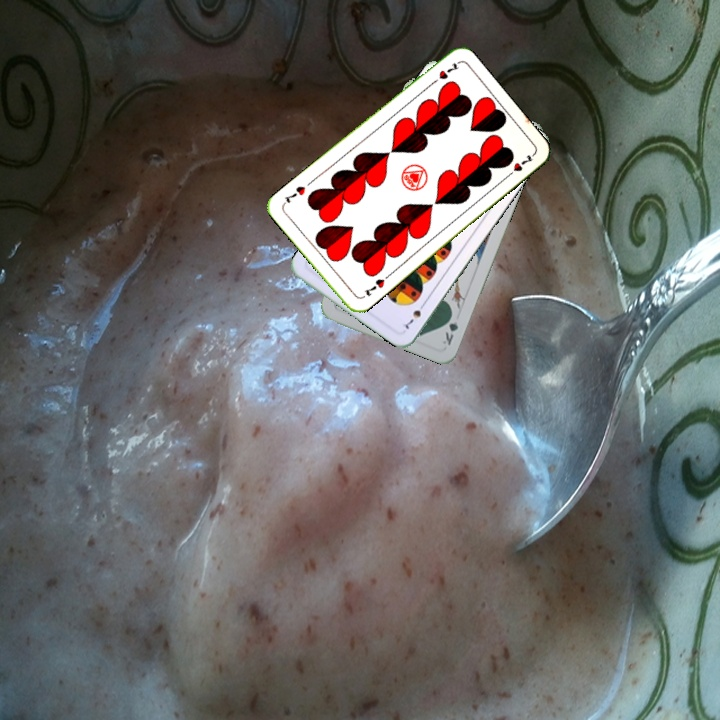GK: (438, 308, 461, 348)
H7: (426, 58, 461, 88), (360, 275, 387, 299)
S7: (399, 298, 428, 332)
